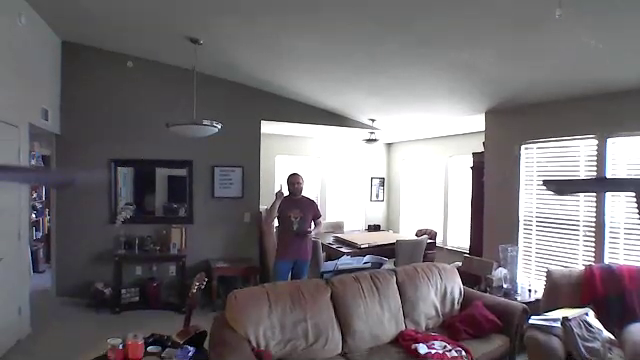up: (272, 184, 286, 201)
